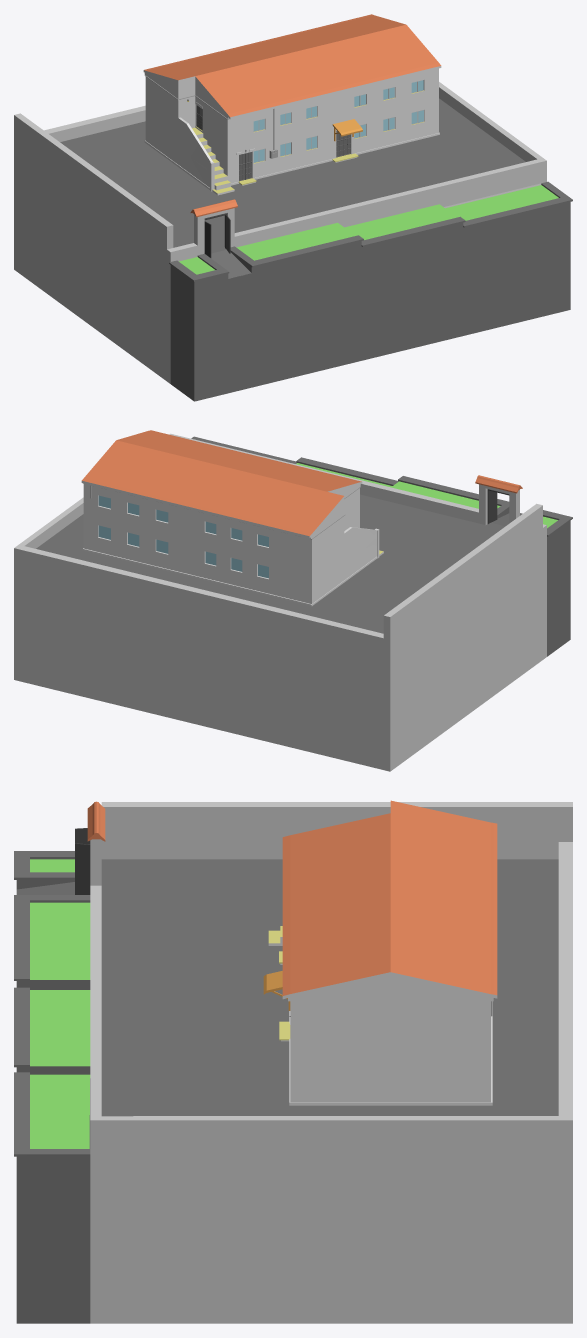
Rendered from 20_Taller_Empleo_Manuel_Maqueda.fbx.
The picture shows the model from 3 angles, top to bottom: view 1: azimuth 30°, elevation 25°; view 2: azimuth 150°, elevation 25°; view 3: azimuth 270°, elevation 25°; orthographic projection. The views are drawn at different scales.
Visible parts, largest first — view 1: Cube.052, Cube.037, Cube.055, Cube.053; view 2: Cube.052, Cube.037; view 3: Cube.052, Cube.037, Cube.053, Cube.054.
Part boxes in pixels (left/top/right/bottom): Cube.052: left=14, top=82, right=572, bottom=401; Cube.037: left=143, top=14, right=441, bottom=195; Cube.055: left=211, top=250, right=251, bottom=278; Cube.053: left=204, top=213, right=230, bottom=257; Cube.052: left=14, top=433, right=572, bottom=771; Cube.037: left=81, top=430, right=383, bottom=606; Cube.052: left=14, top=802, right=572, bottom=1323; Cube.037: left=263, top=800, right=497, bottom=1105; Cube.053: left=75, top=828, right=90, bottom=894; Cube.054: left=87, top=801, right=105, bottom=841.
Bounding box in the file's own units: 3430 × 1789 × 2841.
